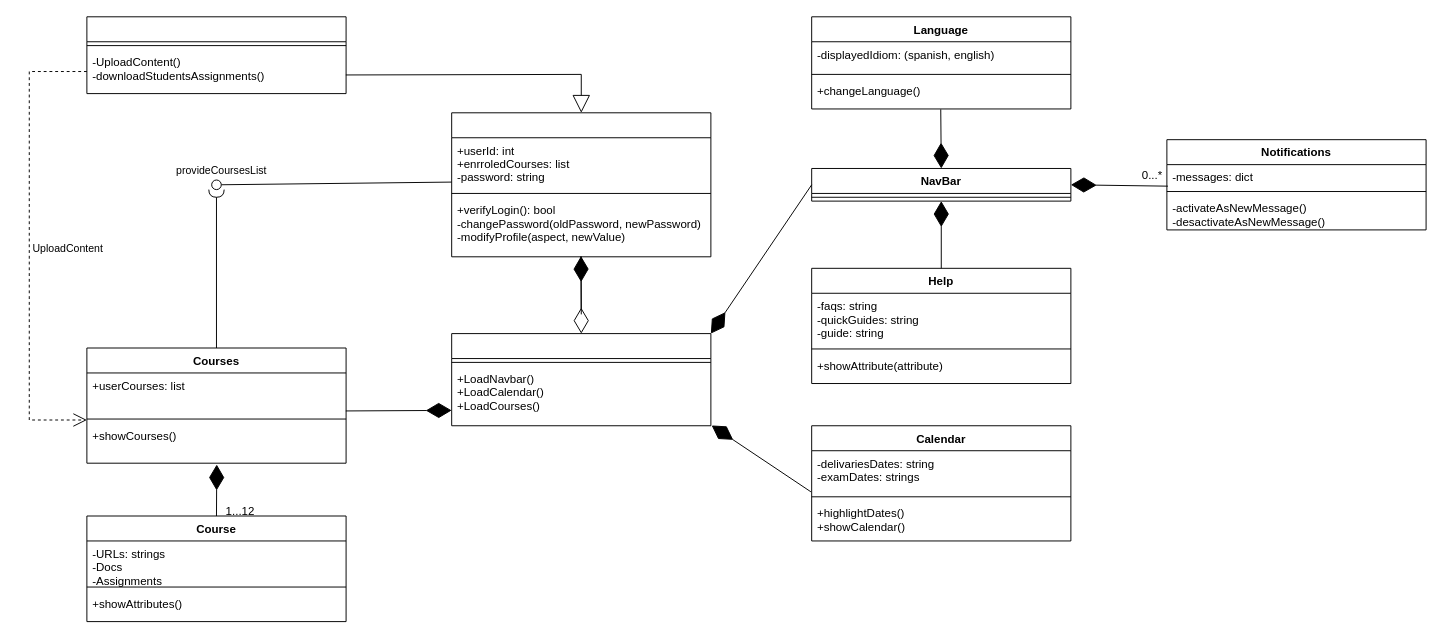
Image size: 1443x641. Some labels were removed from this diagram. The shapes that lost their labels are listed below. From the top down, each one's box as (x1, y1, x2, y2) in pixels, then its label:
(86, 16, 346, 94): Teacher
(451, 112, 711, 257): Student
(451, 333, 711, 426): Homepage
